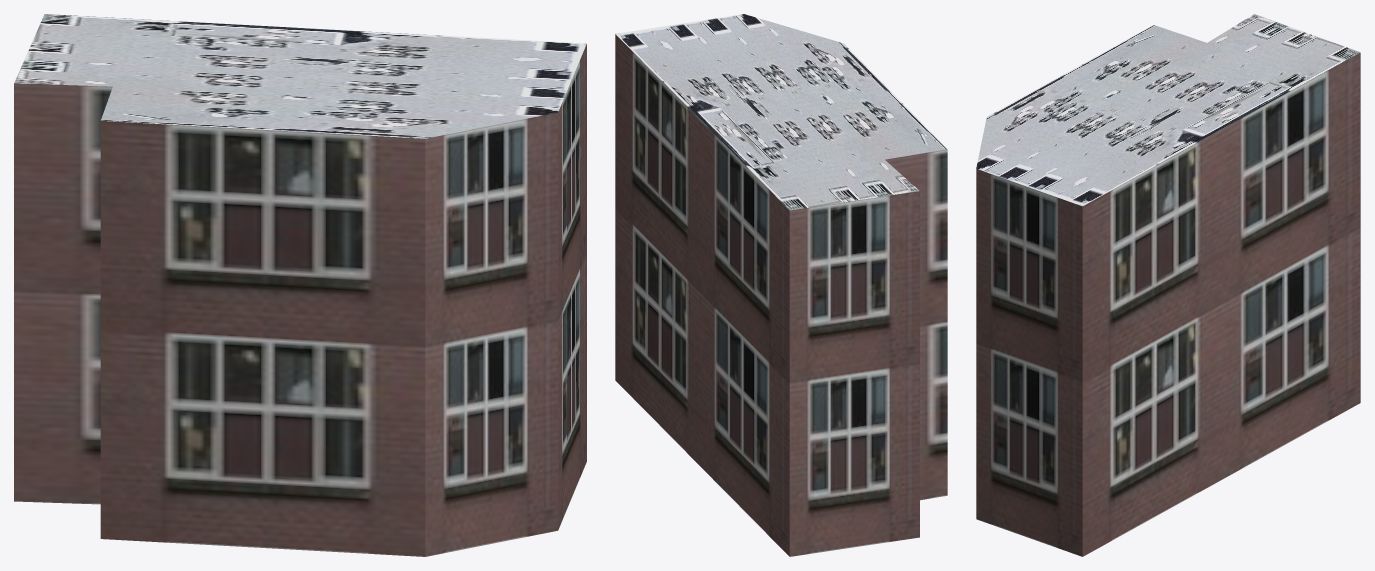
The model's file is ResTex__2705.fbx.
3 views of the same model, side by side, from view 1: azimuth 30°, elevation 25°; view 2: azimuth 150°, elevation 25°; view 3: azimuth 270°, elevation 25° (orthographic). The views are drawn at different scales.
Parts seen in each view (by area): view 1: CityEngineMaterial_12_m, CityEngineMaterial_m; view 2: CityEngineMaterial_12_m, CityEngineMaterial_m; view 3: CityEngineMaterial_12_m, CityEngineMaterial_m.
Boxes of the visible parts, <box> form: CityEngineMaterial_12_m: <box>14,44,586,556</box>; CityEngineMaterial_m: <box>14,14,586,138</box>; CityEngineMaterial_12_m: <box>615,34,947,556</box>; CityEngineMaterial_m: <box>615,14,947,210</box>; CityEngineMaterial_12_m: <box>976,52,1360,556</box>; CityEngineMaterial_m: <box>976,14,1360,206</box>.
Bounding box in the file's own units: 7.06 × 6 × 5.96.
Materials: 2 (2 with a texture image).
